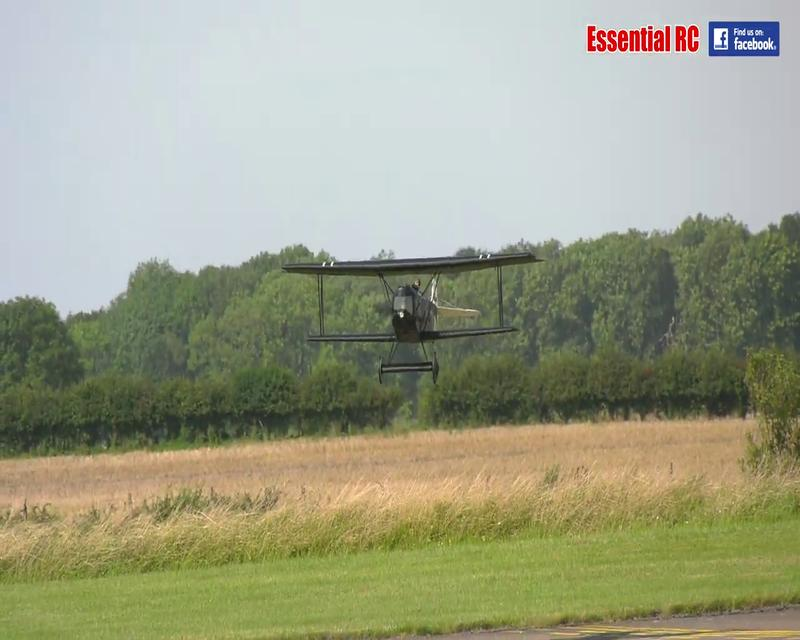UAV: (282, 250, 543, 385)
